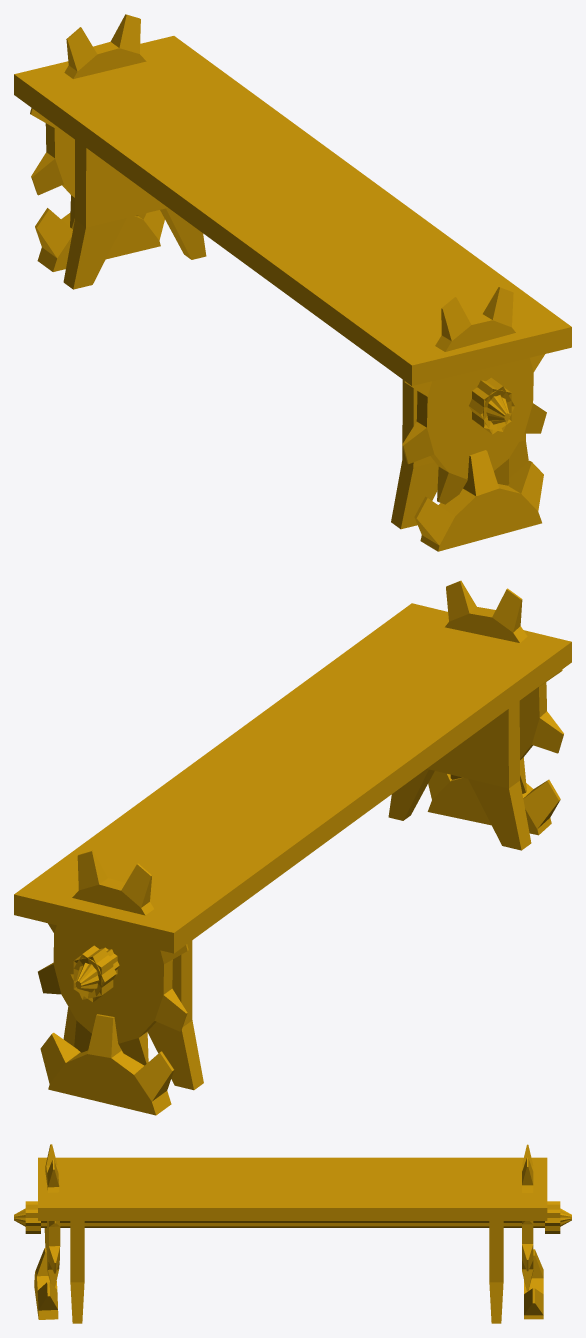
The model's file is HeavyBench.fbx.
The picture shows the model from 3 angles, top to bottom: view 1: azimuth 30°, elevation 25°; view 2: azimuth 150°, elevation 25°; view 3: azimuth 270°, elevation 25°; orthographic projection. The views are drawn at different scales.
Parts seen in each view (by area): view 1: Cylinder_001; view 2: Cylinder_001; view 3: Cylinder_001.
Part boxes in pixels (box(x1,y1,x2,y2)): Cylinder_001: box(14, 14, 571, 551); Cylinder_001: box(14, 580, 571, 1115); Cylinder_001: box(14, 1144, 571, 1323).
Bounding box in the file's own units: 0.4055 × 0.5724 × 1.91.
